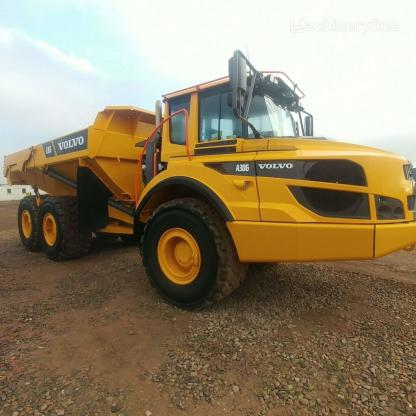dump_truck: (5, 64, 416, 312)
